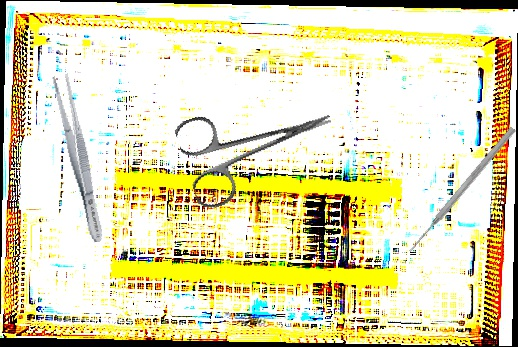Dressing Forceps: (49, 72, 109, 245)
Iris Scissors: (172, 77, 346, 213)
Pusher: (405, 125, 518, 255)
